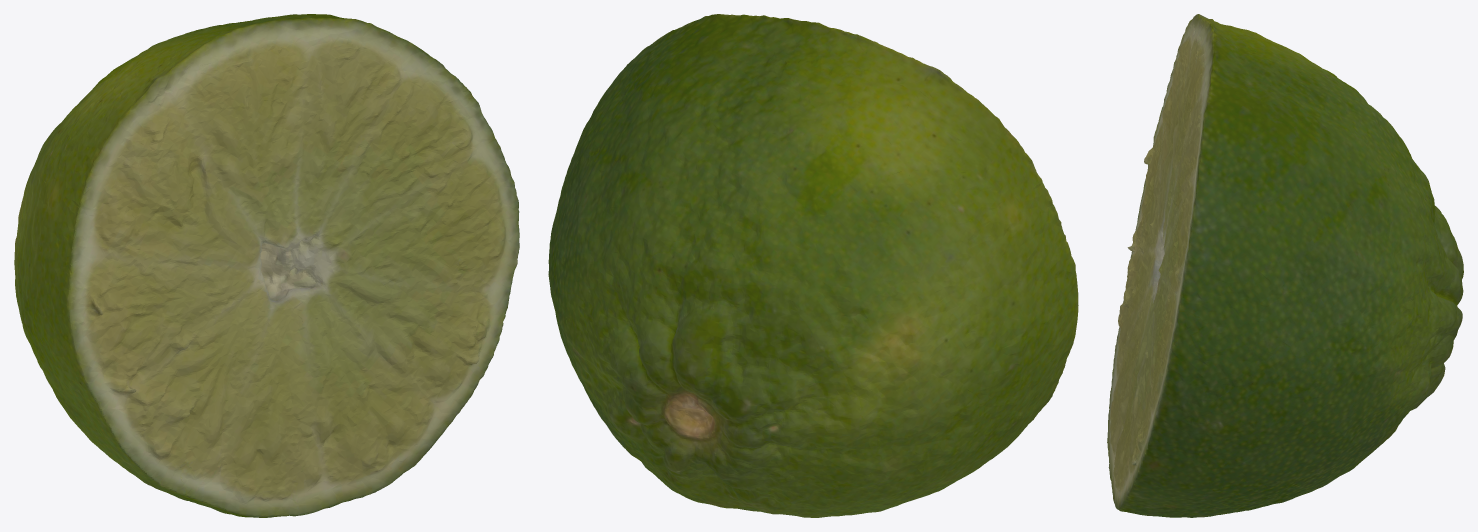
File: lime-half.glb
The picture shows the model from 3 angles, left to right: view 1: azimuth 30°, elevation 25°; view 2: azimuth 150°, elevation 25°; view 3: azimuth 270°, elevation 25°; orthographic projection. The views are drawn at different scales.
Visible parts, largest first — view 1: lime-half; view 2: lime-half; view 3: lime-half.
Boxes of the visible parts, bbox=[...] form: lime-half: bbox=[14, 14, 519, 517]; lime-half: bbox=[548, 14, 1078, 517]; lime-half: bbox=[1107, 14, 1463, 517].
Size of the model in its own units: 1 by 0.9584 by 0.6982.
Materials: 1 (1 with a texture image).
